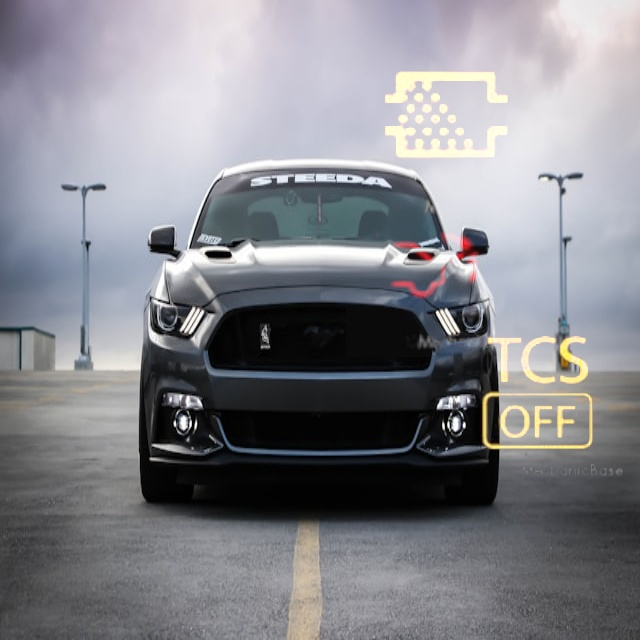symbol: (339, 8, 556, 225), (346, 173, 530, 357), (450, 305, 630, 485)
